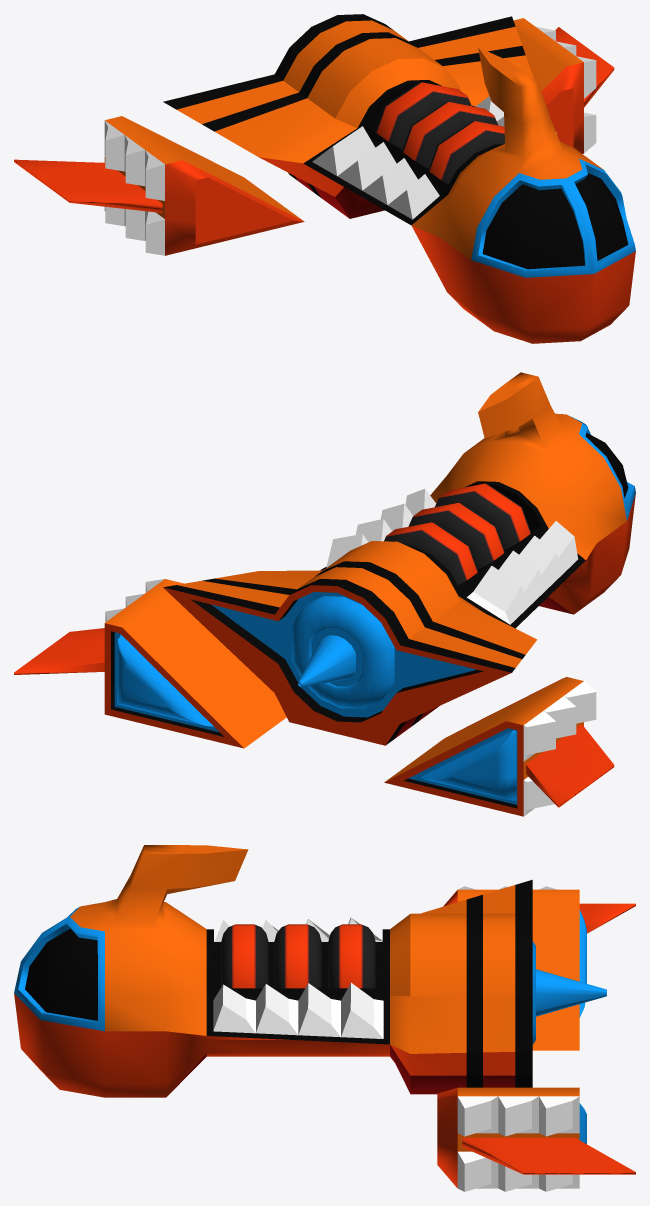
The model's file is MineShip.fbx.
The picture shows the model from 3 angles, top to bottom: view 1: azimuth 30°, elevation 25°; view 2: azimuth 150°, elevation 25°; view 3: azimuth 270°, elevation 25°; orthographic projection.
Parts seen in each view (by area): view 1: Cabin, Engine3, Engine, Mine2, Mine1, Mine; view 2: Cabin, Engine, Engine3, Mine1, Mine, Mine2; view 3: Cabin, Engine, Engine3, Mine1, Mine2, Mine.
Part boxes in pixels (left/top/right/bottom): Cabin: left=163, top=14, right=635, bottom=343; Engine3: left=14, top=116, right=304, bottom=255; Engine: left=513, top=18, right=614, bottom=153; Mine2: left=375, top=82, right=471, bottom=148; Mine1: left=402, top=102, right=498, bottom=168; Mine: left=428, top=121, right=504, bottom=184; Cabin: left=163, top=372, right=635, bottom=745; Engine: left=14, top=579, right=286, bottom=748; Engine3: left=384, top=677, right=614, bottom=816; Mine1: left=408, top=503, right=504, bottom=569; Mine: left=435, top=483, right=531, bottom=549; Mine2: left=384, top=522, right=478, bottom=585; Cabin: left=14, top=845, right=606, bottom=1097; Engine: left=437, top=1087, right=635, bottom=1191; Engine3: left=443, top=886, right=635, bottom=1050; Mine1: left=274, top=924, right=321, bottom=988; Mine2: left=328, top=924, right=375, bottom=988; Mine: left=221, top=924, right=268, bottom=988.
Size of the model in its own units: 1.97 by 0.8051 by 1.92.
